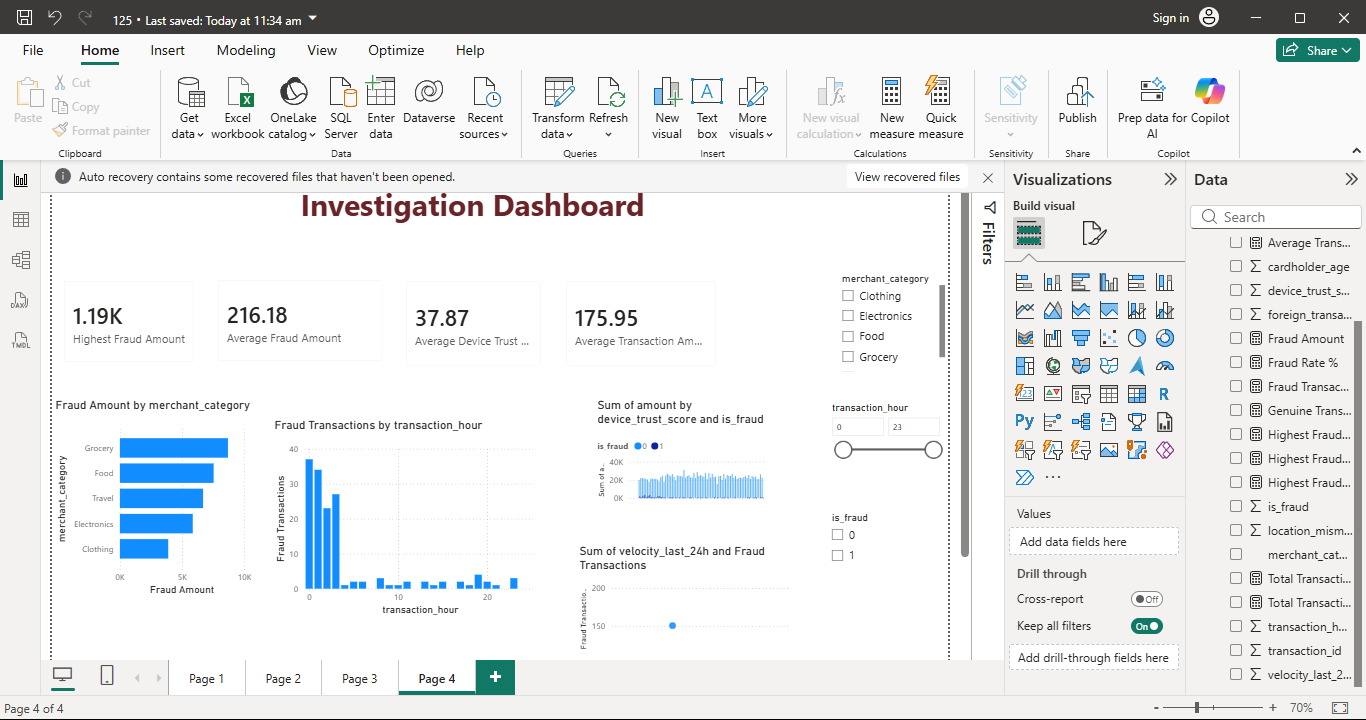

Layout of this report page (visuals, bound fields, positions):
{"tool":"powerbi","page":{"name":"Page 4","canvas":[1280,720],"ordinal":3},"visuals":[{"type":"textbox","box":[349.8,14.6,630.7,71.7],"z":0},{"type":"slicer","fields":{"Values":["credit_card_fraud_10k.is_fraud"]},"box":[1102,482.9,178.5,158],"z":1000},{"type":"slicer","fields":{"Values":["credit_card_fraud_10k.transaction_hour"]},"box":[1102,326.3,178.5,156.6],"z":2000},{"type":"slicer","fields":{"Values":["credit_card_fraud_10k.merchant_category"]},"box":[1115.1,142,165.4,150.7],"z":3000},{"type":"cardVisual","fields":{"Data":["credit_card_fraud_10k.Highest Fraud Amount"]},"box":[0,142,219.5,150.7],"z":4000},{"type":"cardVisual","fields":{"Data":["credit_card_fraud_10k.Average Fraud Amount"]},"box":[219.5,140.5,269.4,150.3],"z":5000},{"type":"cardVisual","fields":{"Data":["credit_card_fraud_10k.Average Device Trust Score"]},"box":[488.8,142,227.7,156.3],"z":6000},{"type":"cardVisual","fields":{"Data":["credit_card_fraud_10k.Average Transaction Amount"]},"box":[717.1,142,248.8,155.1],"z":7000},{"type":"clusteredBarChart","fields":{"Category":["credit_card_fraud_10k.merchant_category"],"Y":["credit_card_fraud_10k.Fraud Amount"]},"box":[0,326.3,289.8,286.8],"z":7001},{"type":"clusteredColumnChart","fields":{"Category":["credit_card_fraud_10k.transaction_hour"],"Y":["credit_card_fraud_10k.Fraud Transactions"]},"box":[313.2,354.1,384.9,286.8],"z":7002},{"type":"scatterChart","fields":{"X":["Sum(credit_card_fraud_10k.velocity_last_24h)"],"Y":["credit_card_fraud_10k.Fraud Transactions"]},"box":[749.3,534.1,310.2,156.6],"z":7003},{"type":"clusteredColumnChart","fields":{"Category":["credit_card_fraud_10k.device_trust_score"],"Y":["Sum(credit_card_fraud_10k.amount)"],"Series":["credit_card_fraud_10k.is_fraud"]},"box":[774.1,326.3,249,157],"z":7004}]}

Visuals, with their boxes on the page's 1280x720 design canvas (x1, y1, x2, y2). These are canvas units, not pixel positions in the 1366x720 screenshot, which may show the page scaled, cropped or inside an application window:
textbox: box(350, 15, 980, 86)
slicer - credit_card_fraud_10k.is_fraud: box(1102, 483, 1280, 641)
slicer - credit_card_fraud_10k.transaction_hour: box(1102, 326, 1280, 483)
slicer - credit_card_fraud_10k.merchant_category: box(1115, 142, 1280, 293)
cardVisual - credit_card_fraud_10k.Highest Fraud Amount: box(0, 142, 220, 293)
cardVisual - credit_card_fraud_10k.Average Fraud Amount: box(220, 140, 489, 291)
cardVisual - credit_card_fraud_10k.Average Device Trust Score: box(489, 142, 716, 298)
cardVisual - credit_card_fraud_10k.Average Transaction Amount: box(717, 142, 966, 297)
clusteredBarChart - credit_card_fraud_10k.merchant_category x credit_card_fraud_10k.Fraud Amount: box(0, 326, 290, 613)
clusteredColumnChart - credit_card_fraud_10k.transaction_hour x credit_card_fraud_10k.Fraud Transactions: box(313, 354, 698, 641)
scatterChart - Sum(credit_card_fraud_10k.velocity_last_24h) x credit_card_fraud_10k.Fraud Transactions: box(749, 534, 1060, 691)
clusteredColumnChart - credit_card_fraud_10k.device_trust_score x Sum(credit_card_fraud_10k.amount): box(774, 326, 1023, 483)
